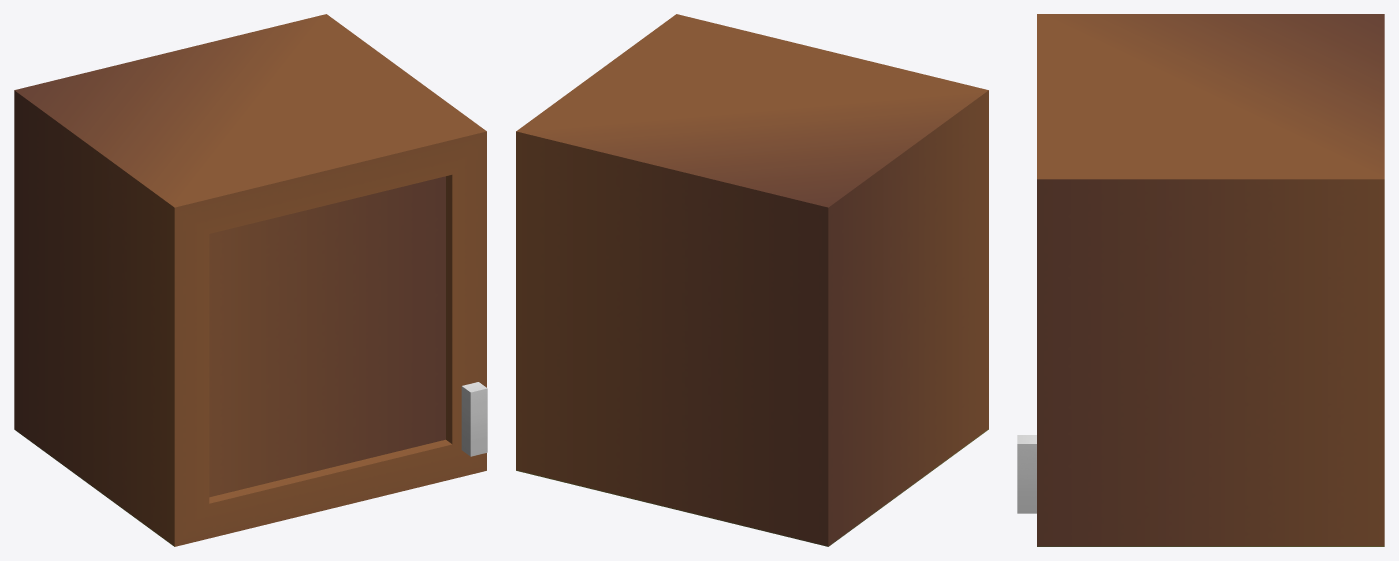
File: cabinet1.FBX
The picture shows the model from 3 angles, left to right: view 1: azimuth 30°, elevation 25°; view 2: azimuth 150°, elevation 25°; view 3: azimuth 270°, elevation 25°; orthographic projection. The views are drawn at different scales.
Visible parts, largest first — view 1: cabinet; view 2: cabinet; view 3: cabinet.
Part boxes in pixels (box(x1,y1,x2,y2)): cabinet: box(14, 14, 487, 546); cabinet: box(516, 14, 988, 546); cabinet: box(1017, 14, 1384, 546).
Size of the model in its own units: 70 by 72.68 by 65.78.
Materials: 1 (1 with a texture image).
